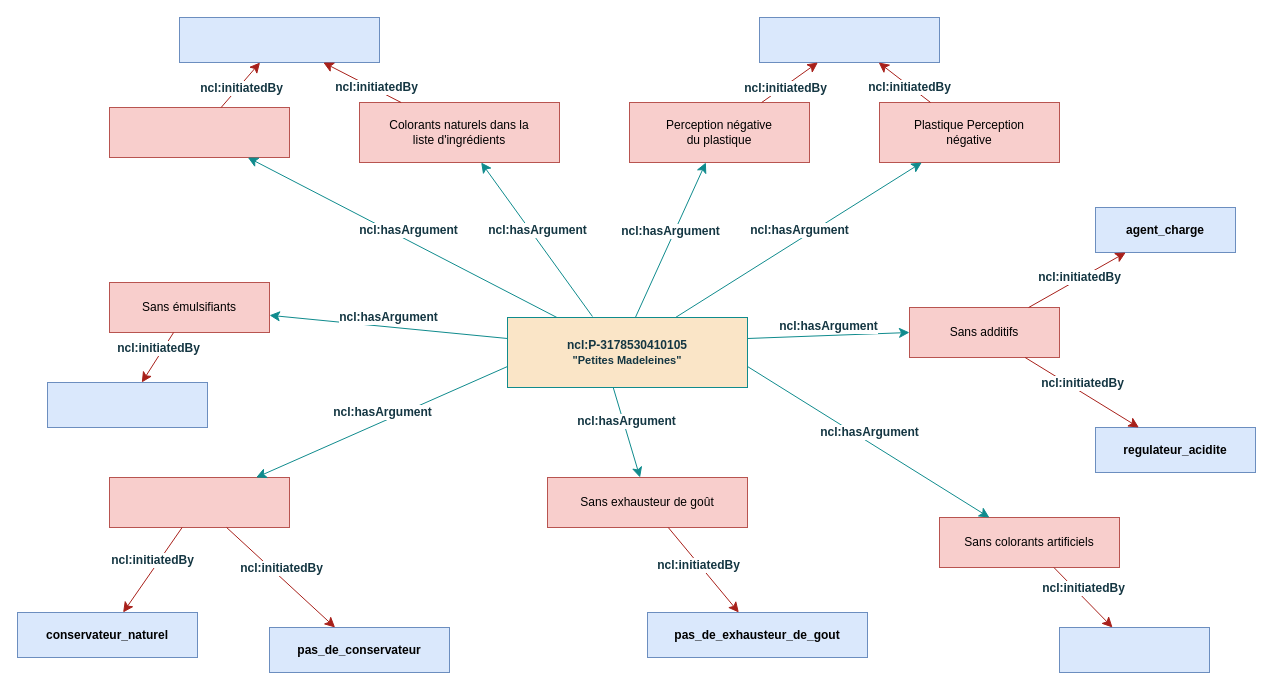
Image size: 1273x690. Some labels were removed from this diagram. Each missing label, with the centre of its shape:
Colorants naturels: point 199,132
emballage_plastique: point 849,39
pas_de_colorant: point 1134,649
pas_de_colorant_naturel: point 279,39
pas_de_emulsifiant: point 127,405
Sans conservateurs: point 199,502
